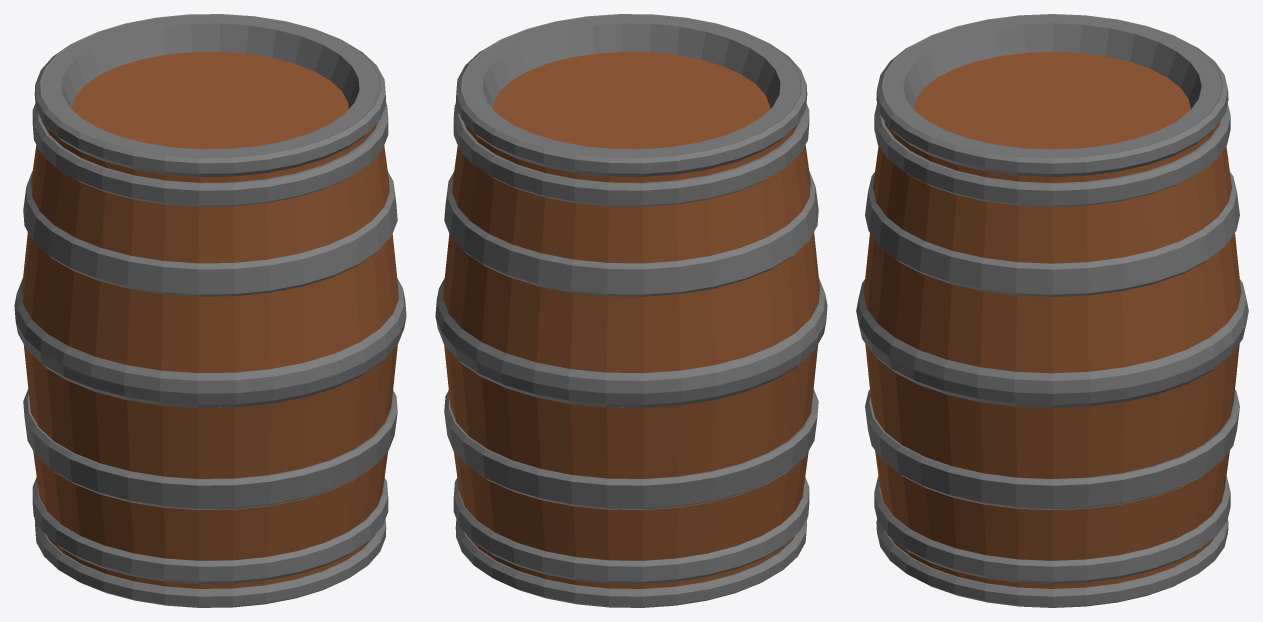
File: barrel2.fbx
The picture shows the model from 3 angles, left to right: view 1: azimuth 30°, elevation 25°; view 2: azimuth 150°, elevation 25°; view 3: azimuth 270°, elevation 25°; orthographic projection.
Visible parts, largest first — view 1: Cylinder, Cylinder.001; view 2: Cylinder, Cylinder.001; view 3: Cylinder, Cylinder.001.
Boxes of the visible parts, <box> form: Cylinder: <box>22,51,398,588</box>; Cylinder.001: <box>14,14,406,607</box>; Cylinder: <box>443,51,819,588</box>; Cylinder.001: <box>435,14,827,607</box>; Cylinder: <box>863,51,1241,588</box>; Cylinder.001: <box>856,14,1248,607</box>.
Size of the model in its own units: 127 by 161 by 127.
